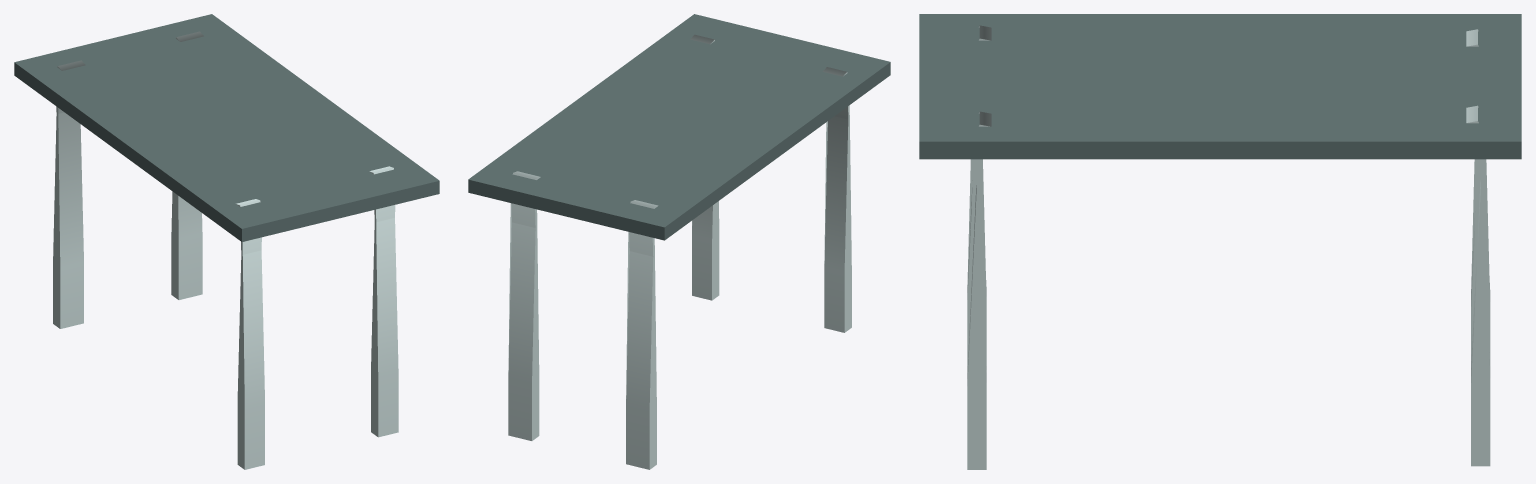
The model's file is Desk 2.fbx.
The picture shows the model from 3 angles, left to right: view 1: azimuth 30°, elevation 25°; view 2: azimuth 150°, elevation 25°; view 3: azimuth 270°, elevation 25°; orthographic projection. The views are drawn at different scales.
Visible parts, largest first — view 1: pCube10; view 2: pCube10; view 3: pCube10.
Part boxes in pixels (bbox=[...]): pCube10: bbox=[14, 14, 439, 469]; pCube10: bbox=[468, 14, 890, 469]; pCube10: bbox=[919, 14, 1521, 469].
Size of the model in its own units: 2.66 by 3.35 by 5.3.
Materials: 1 (1 with a texture image).
